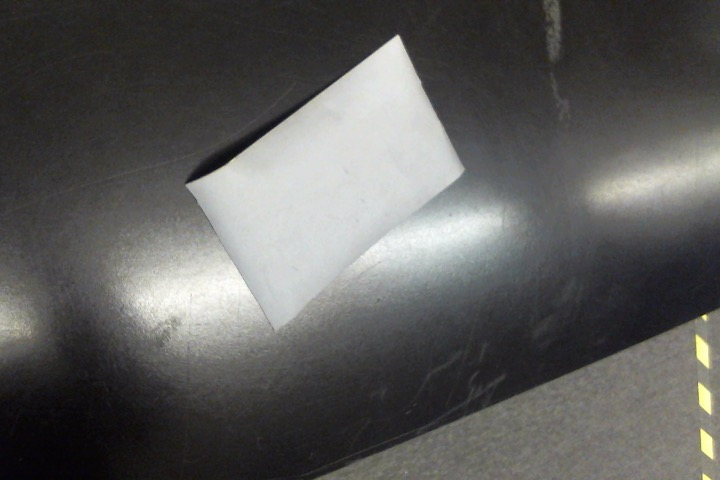Tape: (185, 34, 466, 331)
